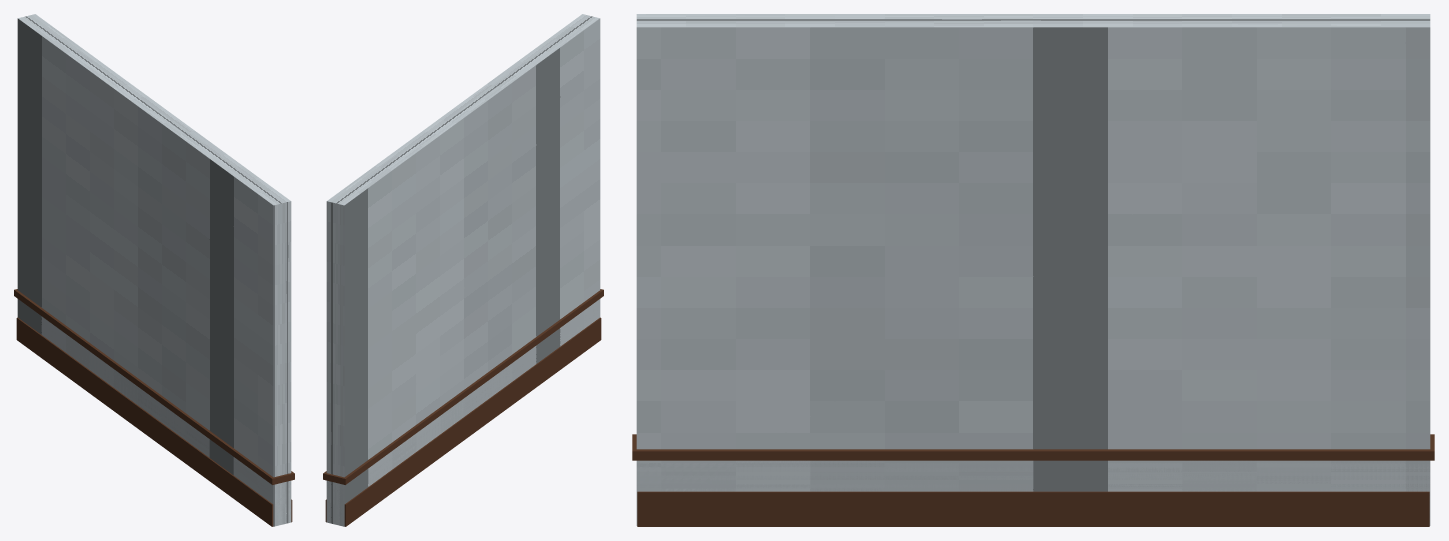
The model's file is back2.glb.
3 renders of one model, left to right at view 1: azimuth 30°, elevation 25°; view 2: azimuth 150°, elevation 25°; view 3: azimuth 270°, elevation 25°, orthographic. The views are drawn at different scales.
Visible parts, largest first — view 1: Box1, Box2, Box3, Box4; view 2: Box1, Box2, Box4, Box3; view 3: Box1, Box2, Box3, Box4.
Part boxes in pixels (x1=…): Box1: x1=17, y1=14, x2=291, y2=526; Box2: x1=16, y1=317, x2=292, y2=526; Box3: x1=19, y1=302, x2=291, y2=526; Box4: x1=14, y1=289, x2=294, y2=484; Box1: x1=326, y1=14, x2=600, y2=526; Box2: x1=325, y1=317, x2=601, y2=526; Box4: x1=323, y1=289, x2=603, y2=484; Box3: x1=326, y1=304, x2=598, y2=526; Box1: x1=636, y1=14, x2=1430, y2=525; Box2: x1=637, y1=491, x2=1429, y2=526; Box3: x1=636, y1=460, x2=1430, y2=524; Box4: x1=632, y1=434, x2=1434, y2=460.
Size of the model in its own units: 0.19 by 2.6 by 3.79.
Materials: 2 (1 with a texture image).
